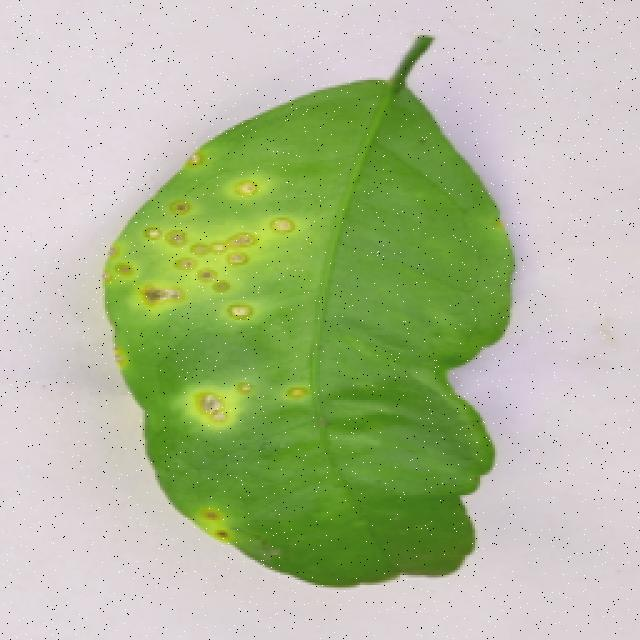canker: (100, 112, 420, 574)
